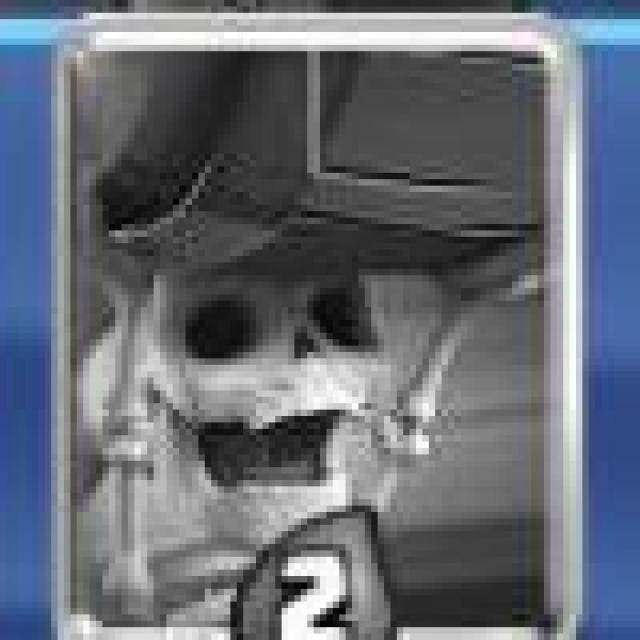Wall_Breakers: (54, 14, 583, 640)
